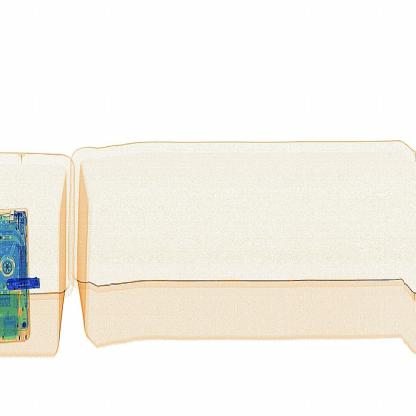knife: (5, 270, 51, 300)
